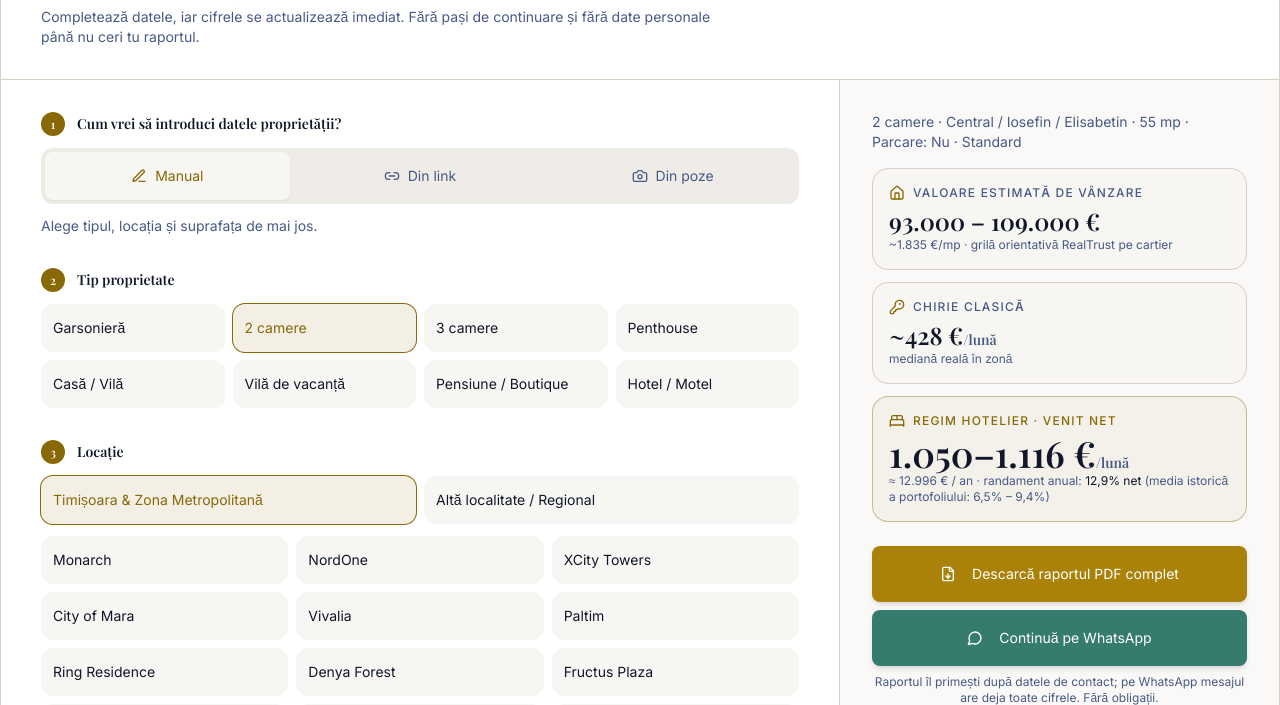
UnifiedCalculator regional location end-to-end › uses the selected suggestion in the result and analytics
Click the button "Altă localitate / Regional". click: (516, 500)
box: [424,476,799,524]
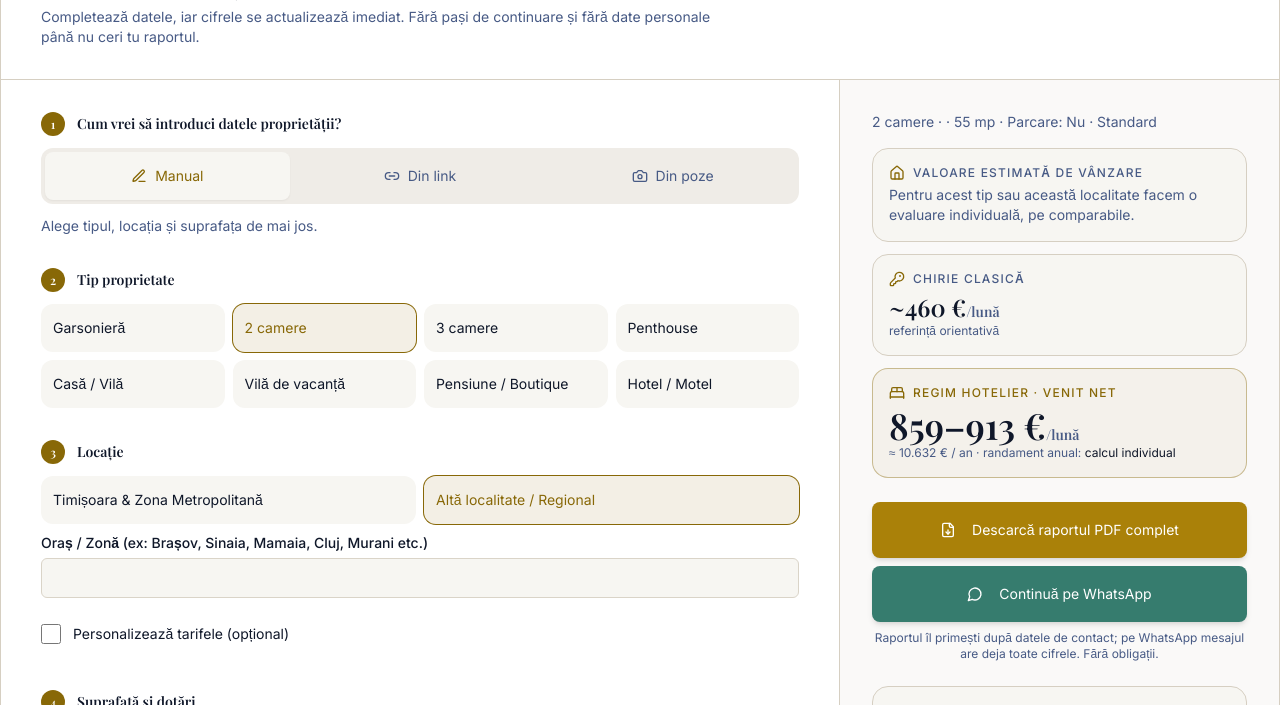
Type "baile felix" into the dropdown. click: (420, 578)
box: [41,558,799,598]
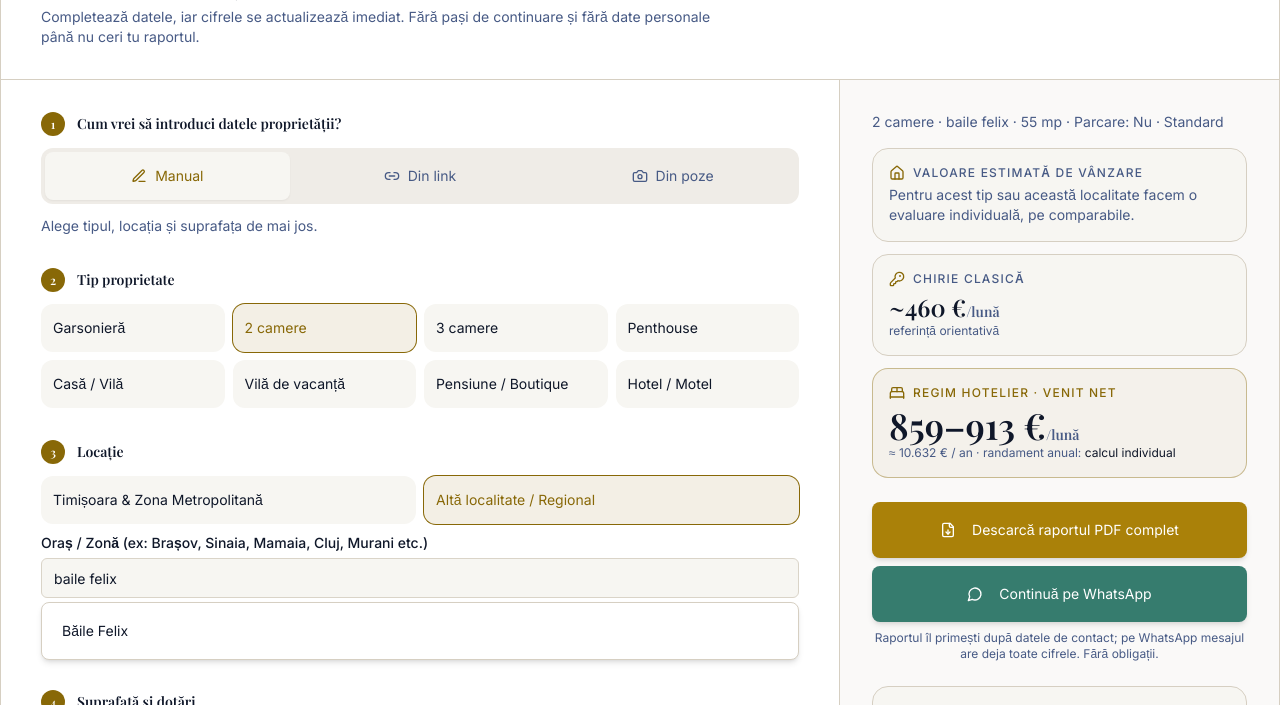
Click the option "Băile Felix". click: (95, 630)
box: [46,607,794,655]
(page scrolled)
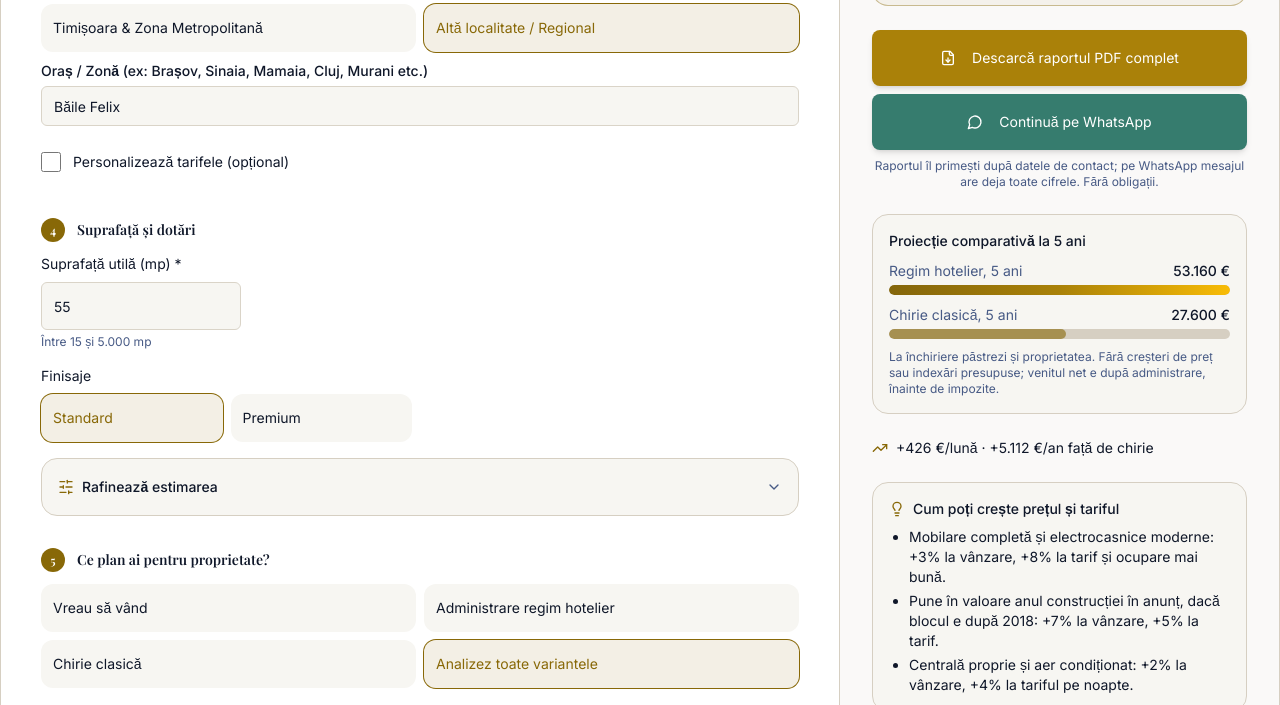
Expected: the dropdown holds "Băile Felix", [41,86,799,126]
Replace the text in the field labelled "Suprafață utilă (mp) *" with "60". click: (141, 306)
box: [41,282,241,330]
Wait 1200 ms
(page scrolled)
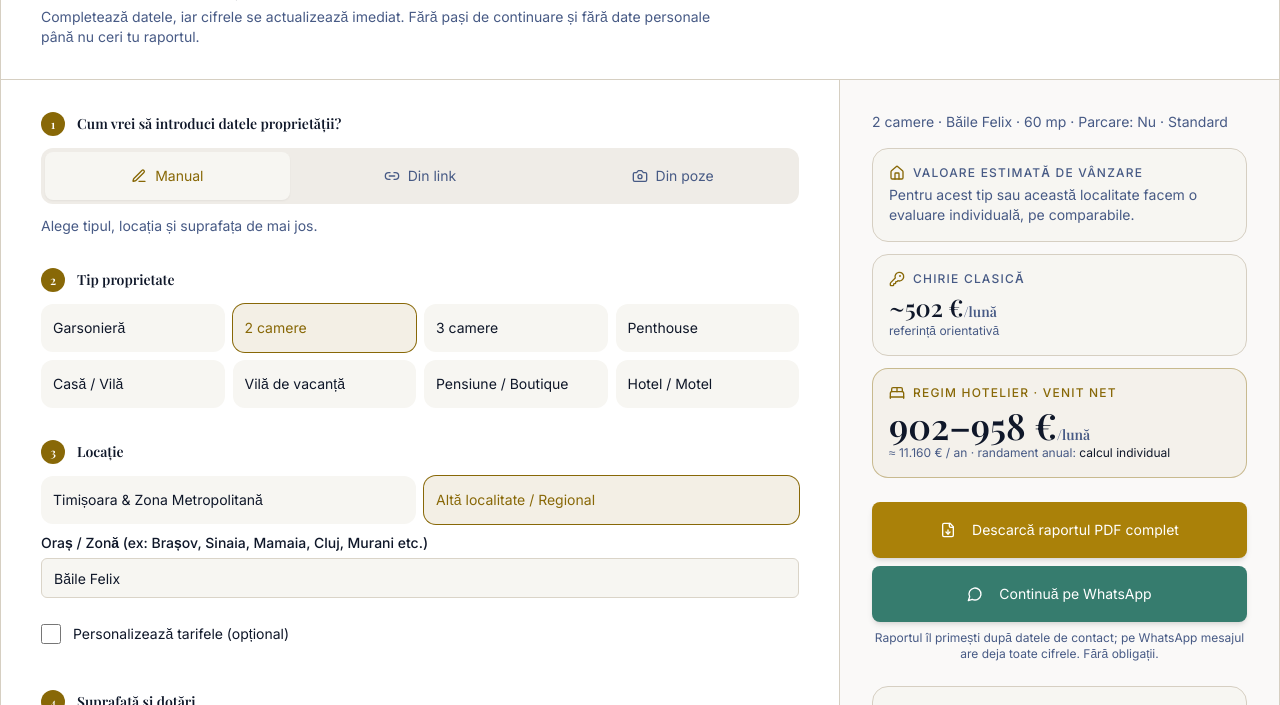
Expected: the text "2 camere · Băile Felix · 60 mp · Parcare: Nu · Standard" is shown, [872,112,1247,132]
